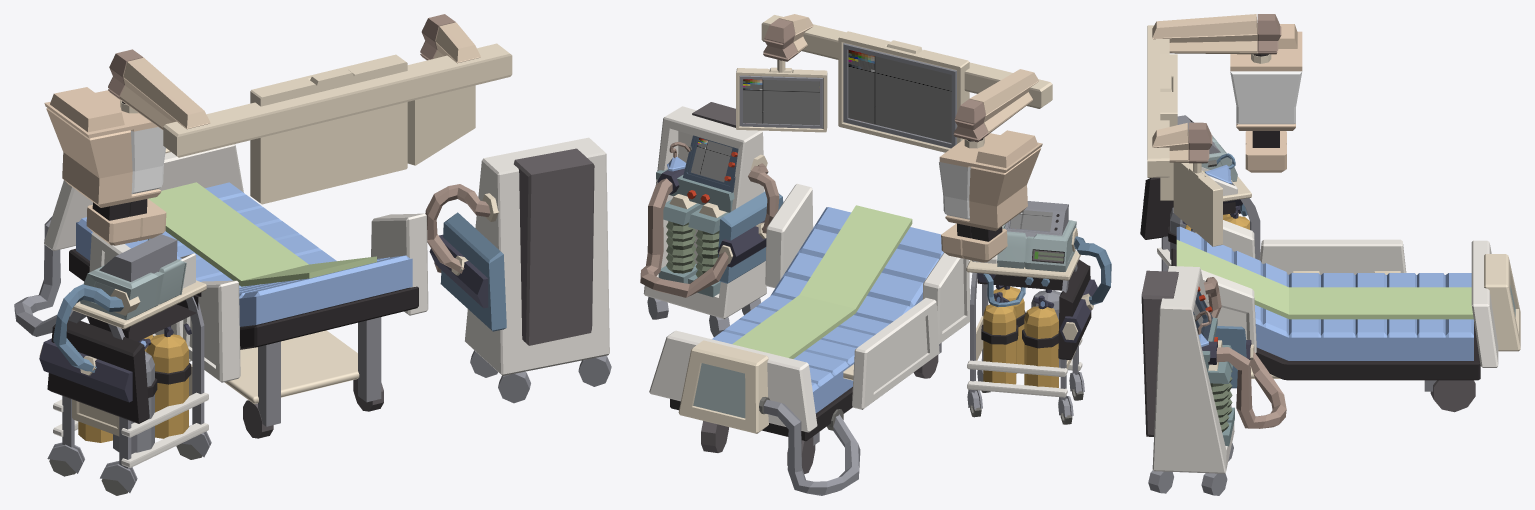
The model's file is g_o_ResuscitationMedicalStation.fbx.
The picture shows the model from 3 angles, left to right: view 1: azimuth 30°, elevation 25°; view 2: azimuth 150°, elevation 25°; view 3: azimuth 270°, elevation 25°; orthographic projection. The views are drawn at different scales.
Visible parts, largest first — view 1: monitor2, bed, breath2, breath; view 2: bed, monitor2, breath2, breath; view 3: bed, breath2, monitor2, breath.
Part boxes in pixels (x1,y1,x2,y2): monitor2: (44,14,512,245); bed: (14,144,428,438); breath2: (425,137,611,403); breath: (39,234,211,495); bed: (649,183,969,495); monitor2: (736,14,1052,262); breath2: (640,102,783,336); breath: (966,201,1111,424); bed: (1171,220,1520,412); breath2: (1141,266,1286,495); monitor2: (1147,14,1302,246); breath: (1140,115,1260,271).
Bounding box in the file's own units: 269 × 180 × 198.
